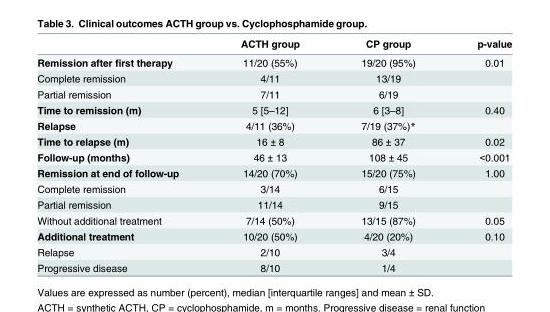table: (36, 37, 511, 273)
table column: (36, 37, 209, 273), (209, 37, 329, 273), (329, 37, 445, 273), (445, 37, 511, 273)
table column header: (36, 37, 511, 52)
table row: (36, 52, 511, 70), (36, 85, 511, 101), (36, 101, 511, 117), (36, 117, 511, 133), (36, 148, 511, 164), (36, 164, 511, 180), (36, 180, 511, 196), (36, 196, 511, 212), (36, 227, 511, 243), (36, 243, 511, 259), (36, 37, 511, 52), (36, 70, 511, 85), (36, 133, 511, 148), (36, 212, 511, 227), (36, 259, 511, 273)
